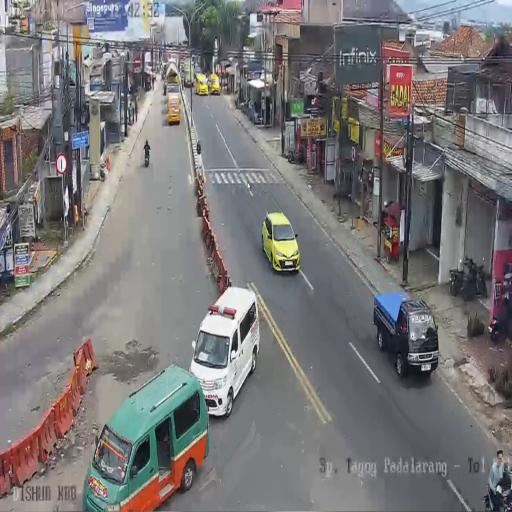car: (82, 363, 208, 509), (189, 286, 259, 416), (260, 211, 300, 274), (166, 86, 180, 125), (195, 72, 209, 96), (209, 72, 221, 96)
motorcycle: (450, 256, 486, 302), (489, 294, 512, 341), (286, 144, 302, 164), (144, 144, 150, 167)
truck: (373, 290, 439, 378), (182, 62, 196, 87)
